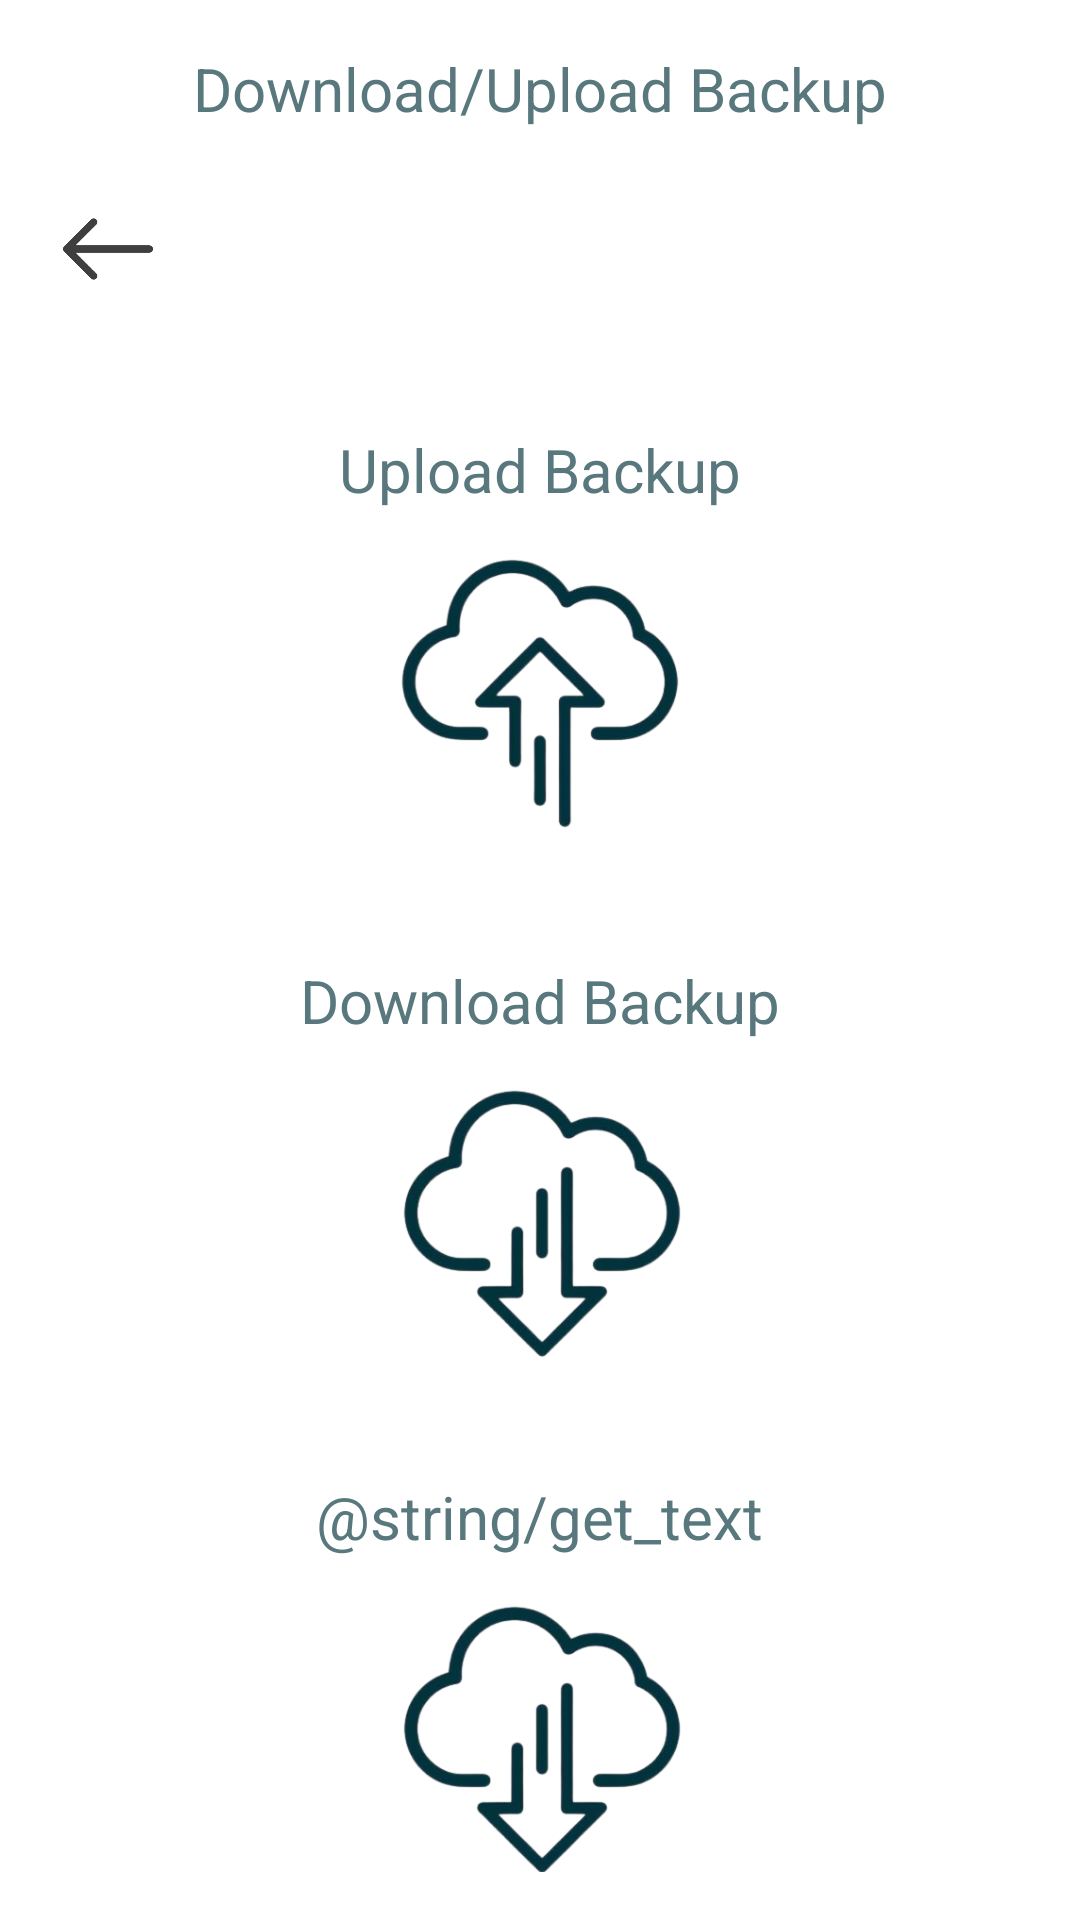

Icons on this 1080×1920 Android screen, each with the point to tap as point (x, y):
back arrow: point (108, 249)
